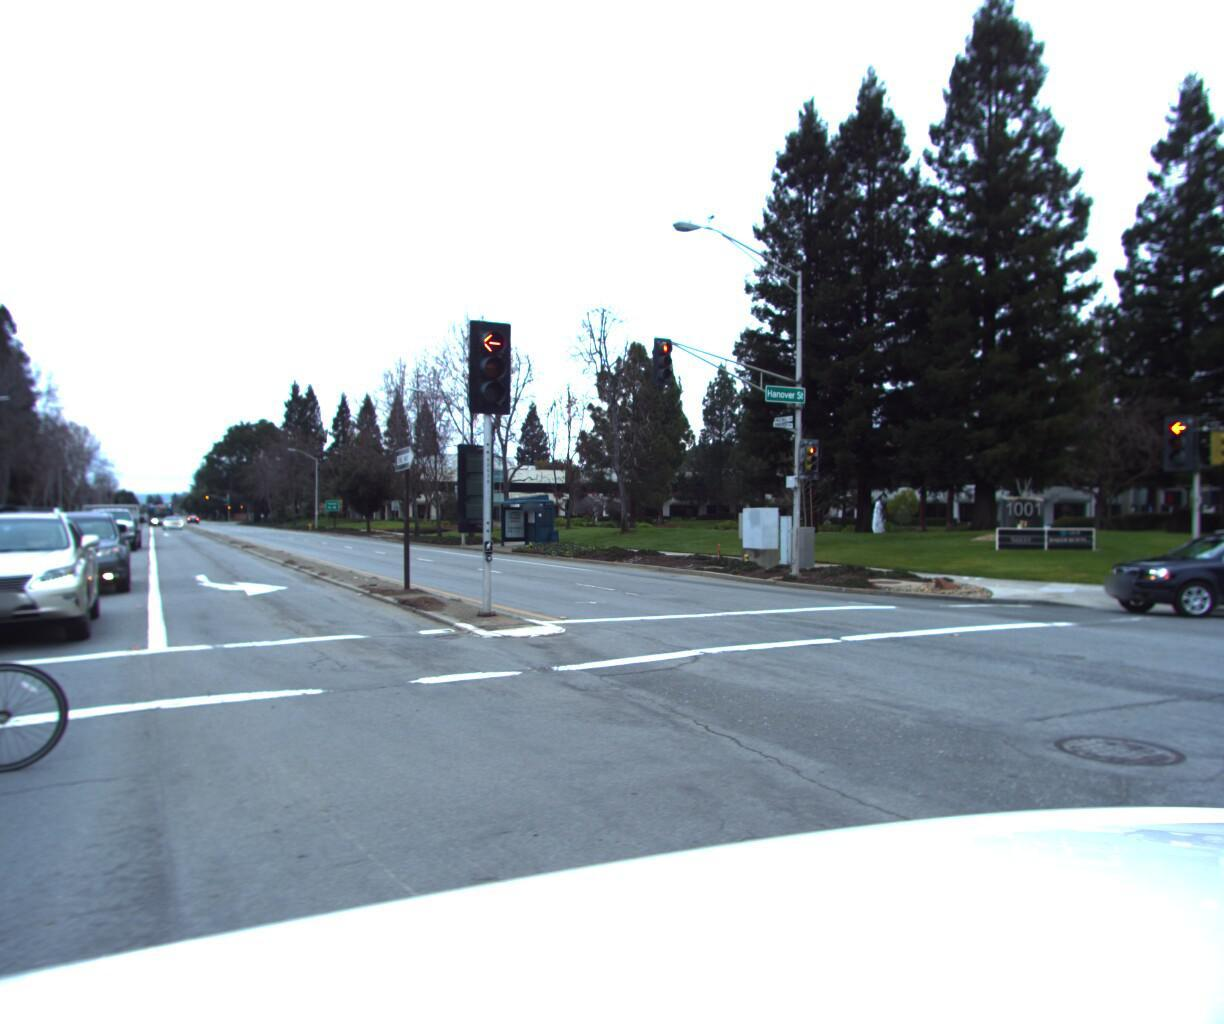bicycle: (0, 438, 80, 848)
car: (0, 499, 94, 673), (1088, 519, 1224, 619), (0, 508, 126, 606), (72, 498, 141, 551)
